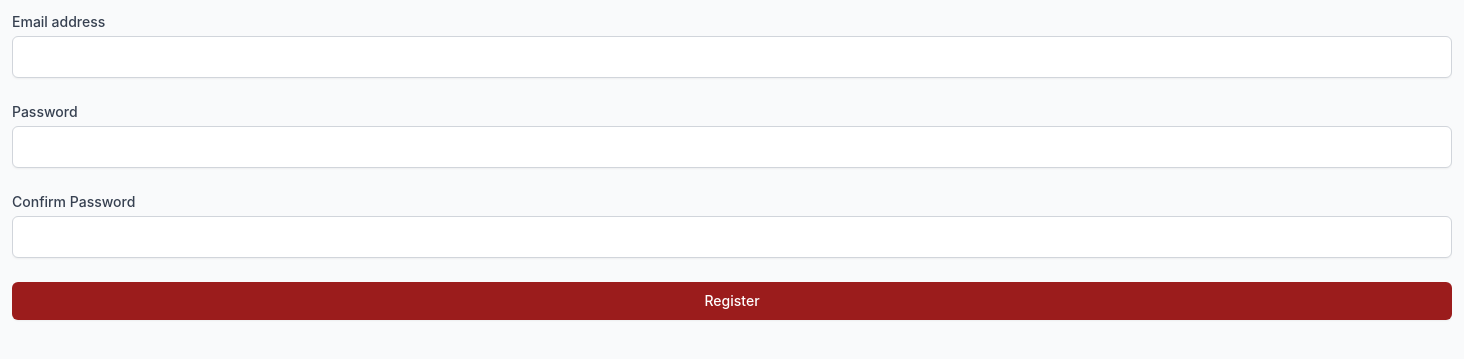
Test: RegisterForm › Error handling › displays error message when registration fails
Type "test@example.com" into the field labelled "Email address" at (732, 57), box [12,36,1452,78]
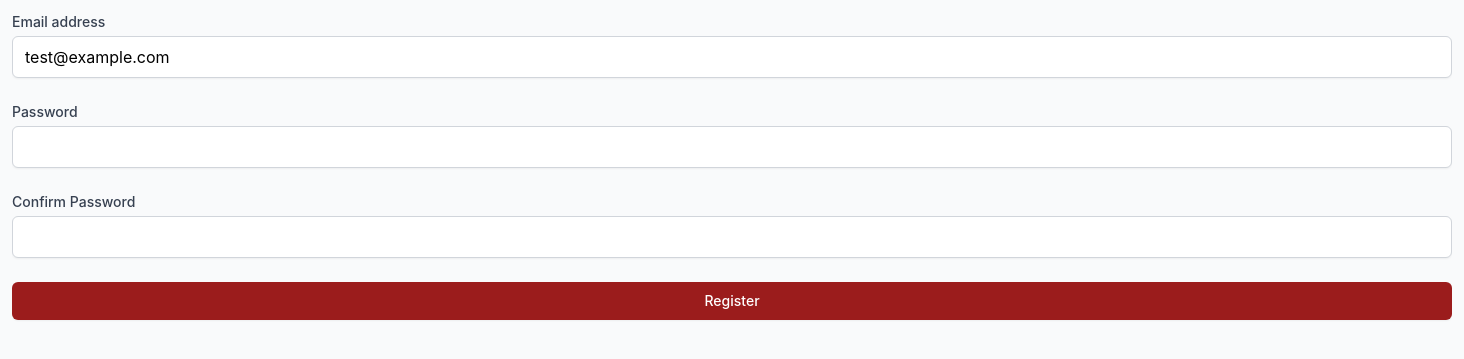
Type "password123" into the password field labelled "Password" at (732, 147), box [12,126,1452,168]
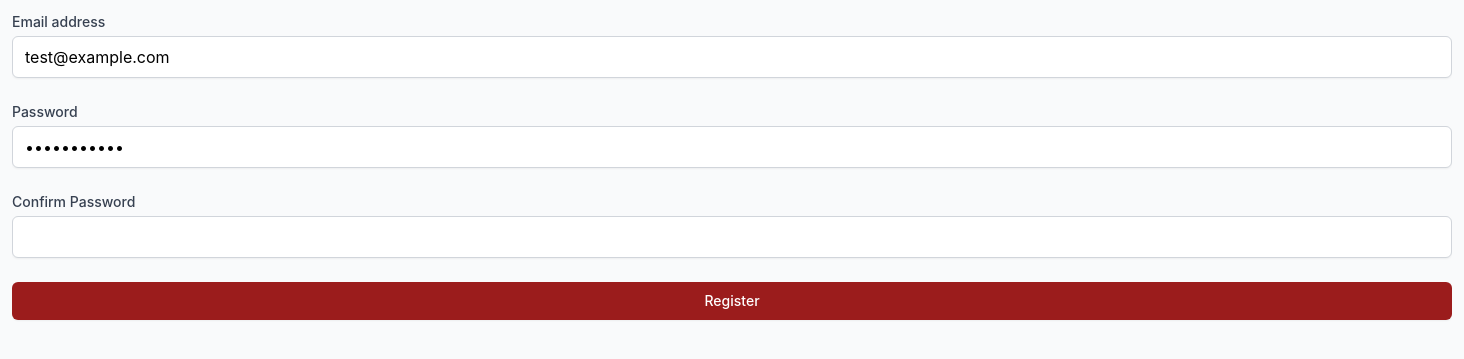
Type "password123" into the password field labelled "Confirm Password" at (732, 237), box [12,216,1452,258]
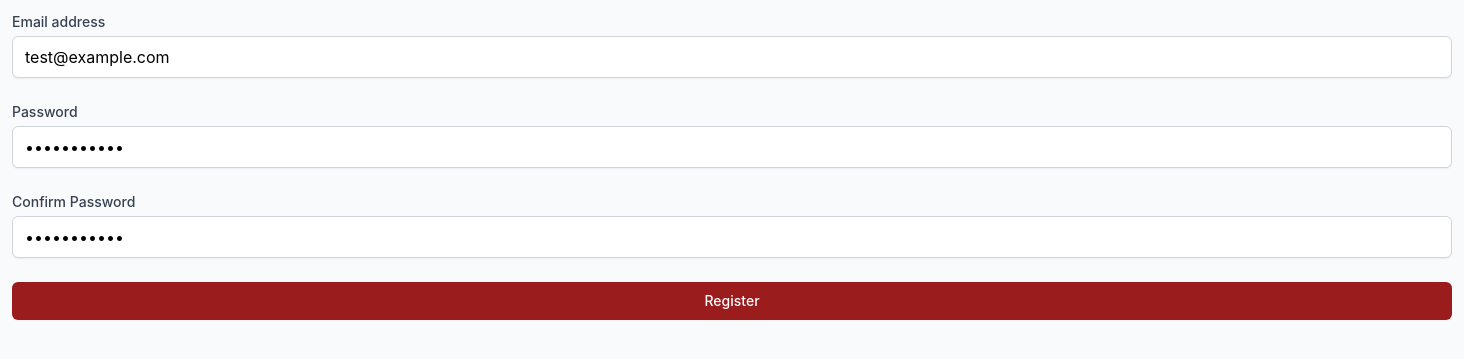
Click the button "Register" at (732, 301), box [12,282,1452,320]
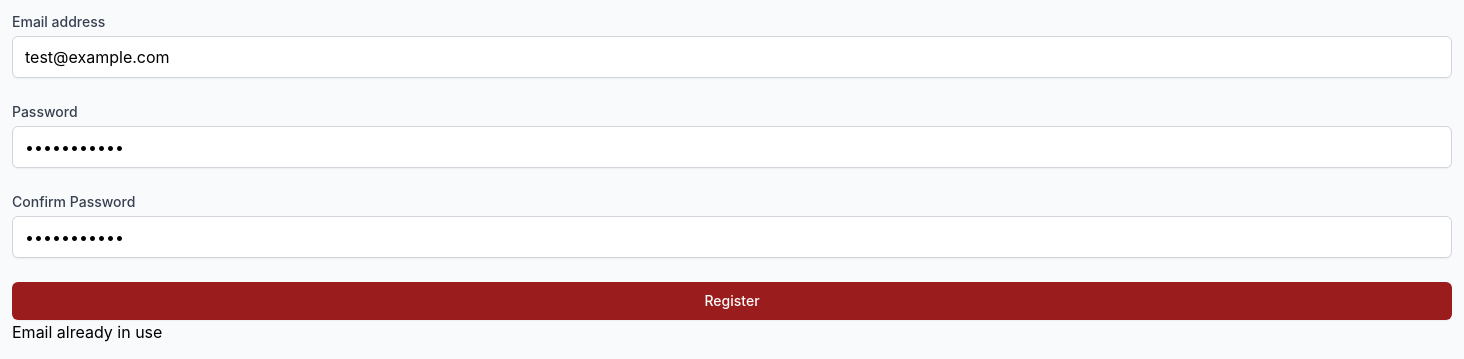
Result: the text with test id "mock-toast" reads "Email already in use" at [12,322,162,342]
